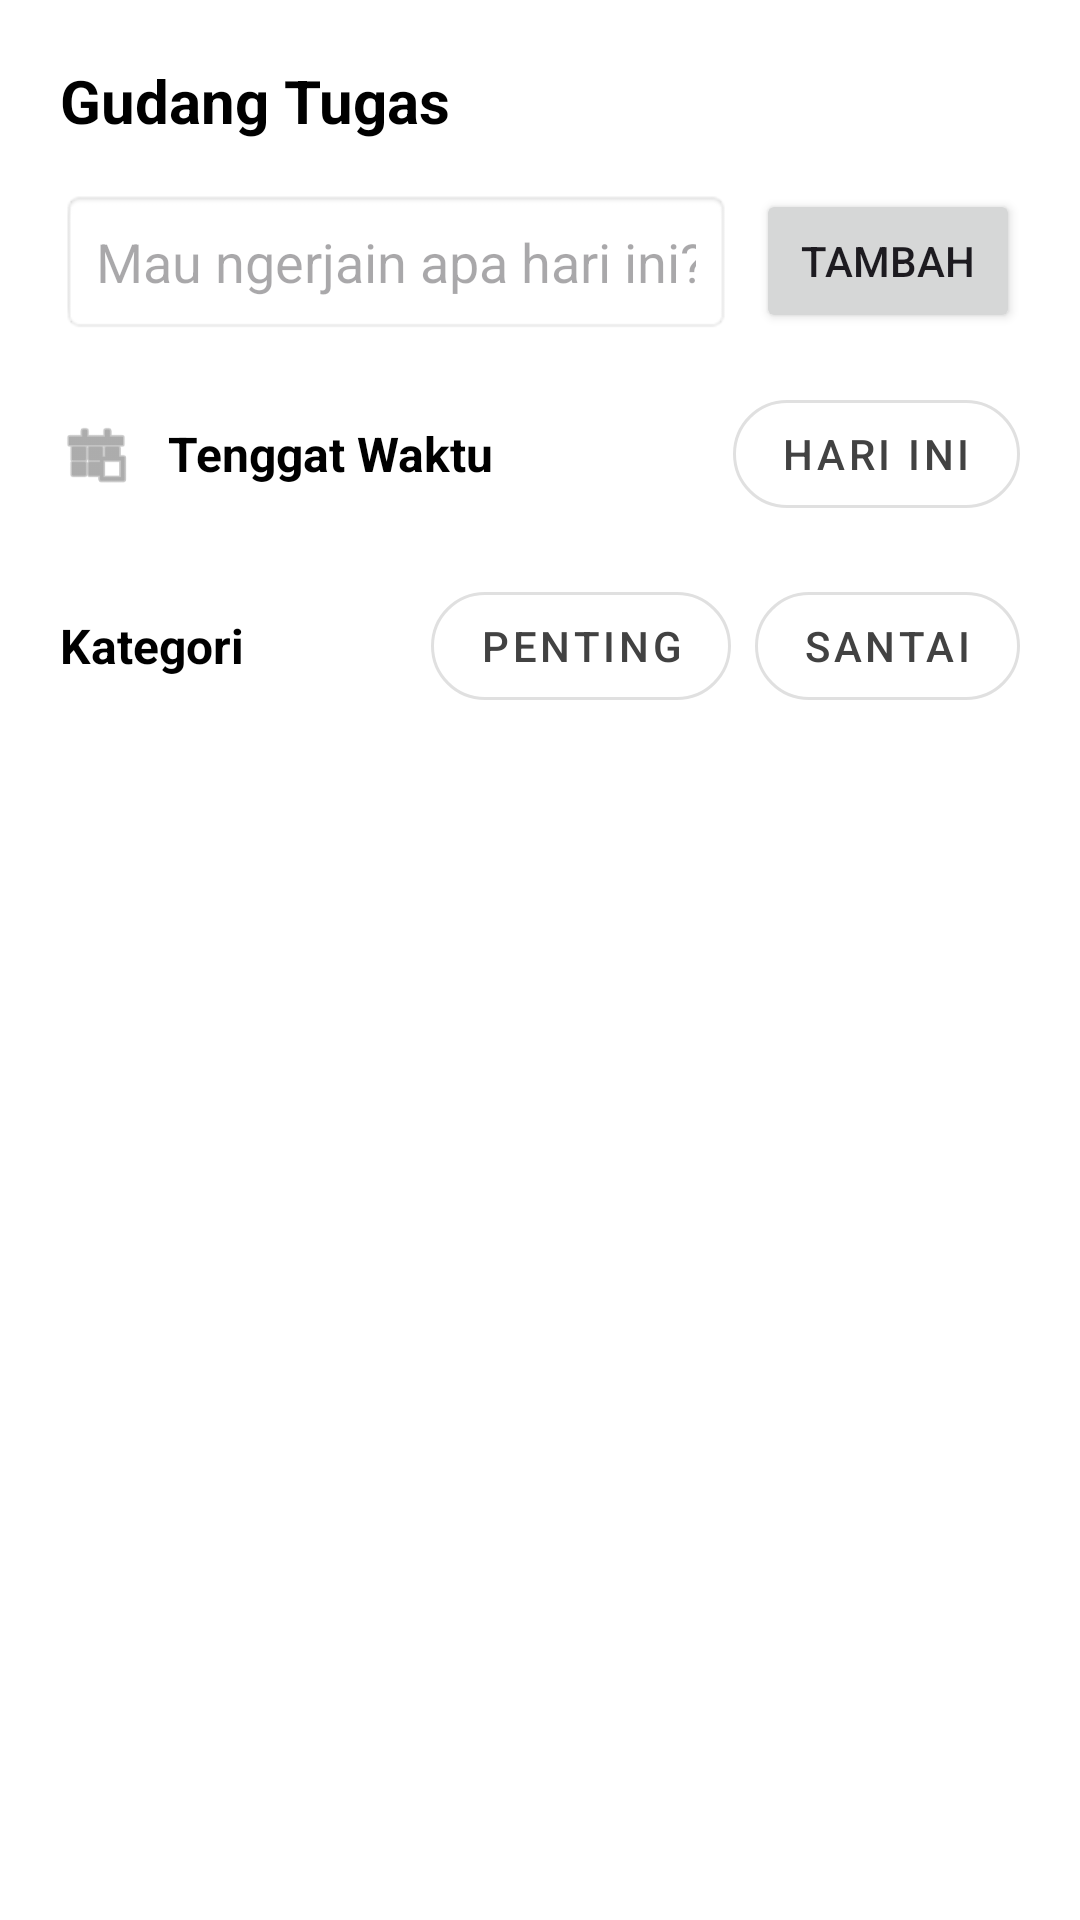

Where icons sit on this 1080 × 1920 app screen, as (x1, y1, x2, y2):
today: (67, 428, 126, 482)
